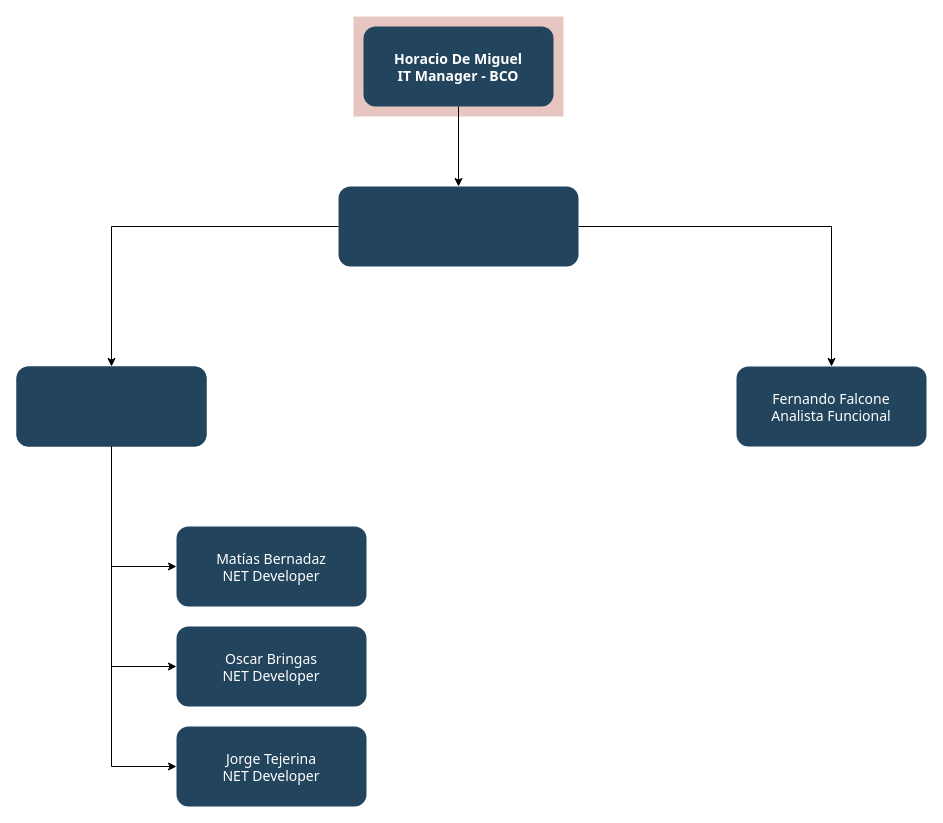
Some shapes in this 943 by 823 pixel diagram are drawn without their labels. The shapes that lost their labels are listed below. From the top down, each one's box as (x1, y1, x2, y2) in pixels, then its label:
(338, 186, 578, 266): María Eugenia Catharino BI, Finance & HR Project Leader
(16, 366, 206, 446): Agustín Gugliuzza Team Leader
